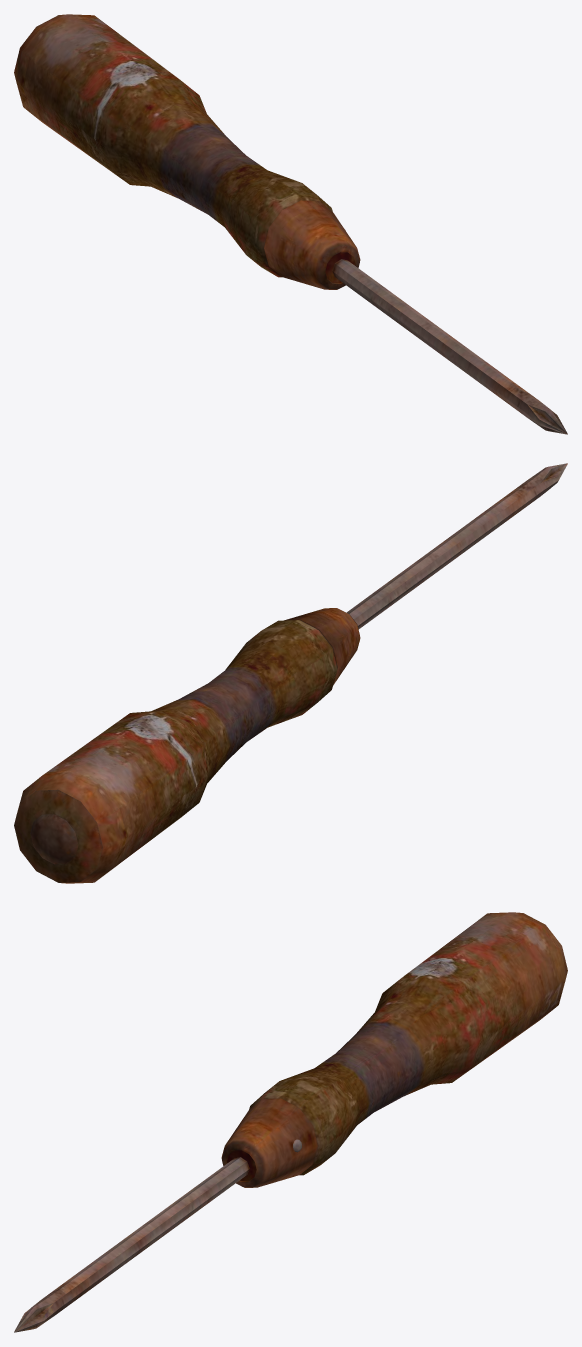
File: old_screwdriver_01.glb
3 renders of one model, top to bottom at view 1: azimuth 30°, elevation 25°; view 2: azimuth 150°, elevation 25°; view 3: azimuth 330°, elevation 25°, orthographic.
Visible parts, largest first — view 1: old_screwdriver_01; view 2: old_screwdriver_01; view 3: old_screwdriver_01.
Boxes of the visible parts, left/top/right/bottom form: old_screwdriver_01: left=14, top=14, right=567, bottom=434; old_screwdriver_01: left=14, top=463, right=567, bottom=883; old_screwdriver_01: left=14, top=912, right=567, bottom=1332.
Size of what is drawn, in the model's own units: 0.0256 by 0.0256 by 0.22.
1 material, 1 textured.
